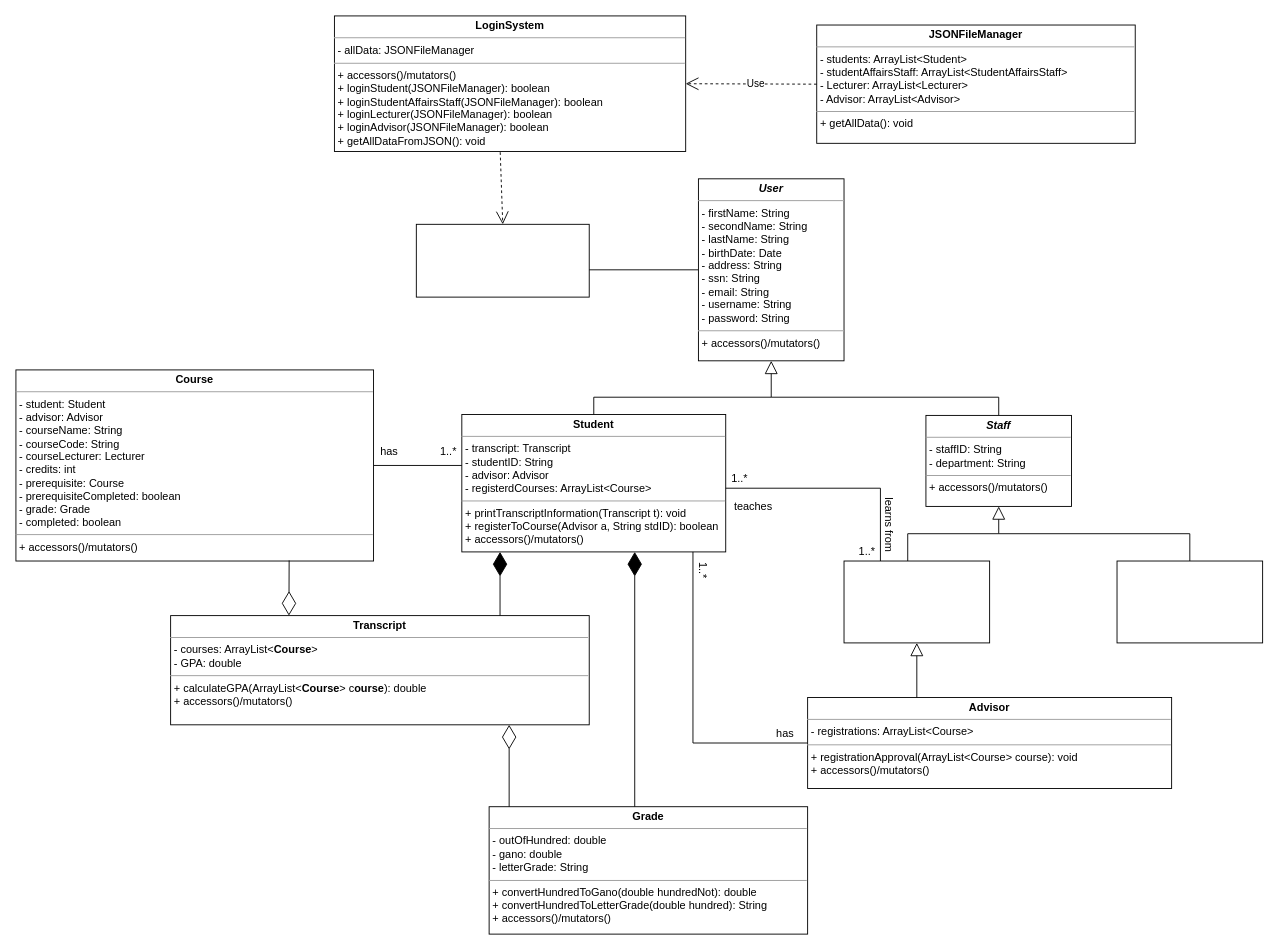
Image size: 1279x950. Some labels were removed from this diagram. The shapes that lost their labels are listed below. From the top down, each one's box as (x1, y1, x2, y2) in pixels, then its label:
(415, 223, 589, 297): Main + startCodeLoginSystem(): void
(843, 560, 990, 643): Lecturer - profession: String + accessors()/mutators()
(1116, 560, 1263, 643): StudentAffairsStaff - workingField: String + accessors()/mutators()
